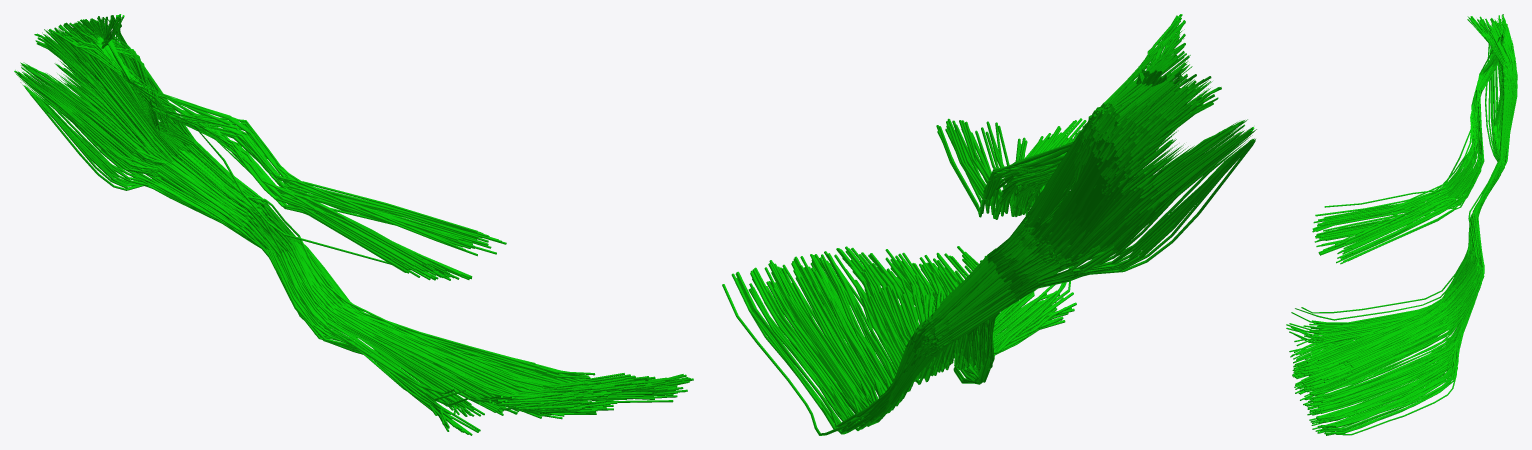
File: MdLF.glb
The picture shows the model from 3 angles, left to right: view 1: azimuth 30°, elevation 25°; view 2: azimuth 150°, elevation 25°; view 3: azimuth 270°, elevation 25°; orthographic projection. The views are drawn at different scales.
Visible parts, largest first — view 1: Tract_MdLF; view 2: Tract_MdLF; view 3: Tract_MdLF.
Part boxes in pixels (bbox=[...]): Tract_MdLF: bbox=[14, 14, 693, 435]; Tract_MdLF: bbox=[722, 14, 1256, 435]; Tract_MdLF: bbox=[1286, 14, 1517, 435].
Bounding box in the file's own units: 71.44 × 53.64 × 39.21.
